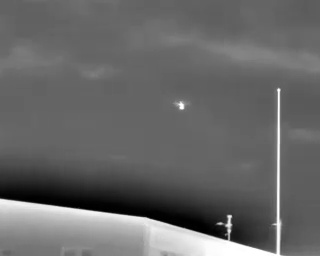HELICOPTER: (171, 96, 194, 114)
